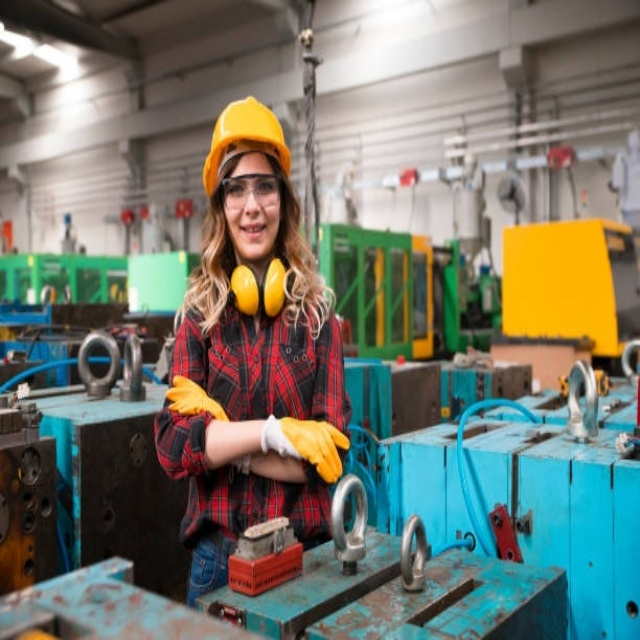Gafas: (218, 171, 279, 207)
Guantes: (273, 416, 349, 483), (165, 376, 231, 421)
Sin_mascara: (234, 218, 272, 253)
